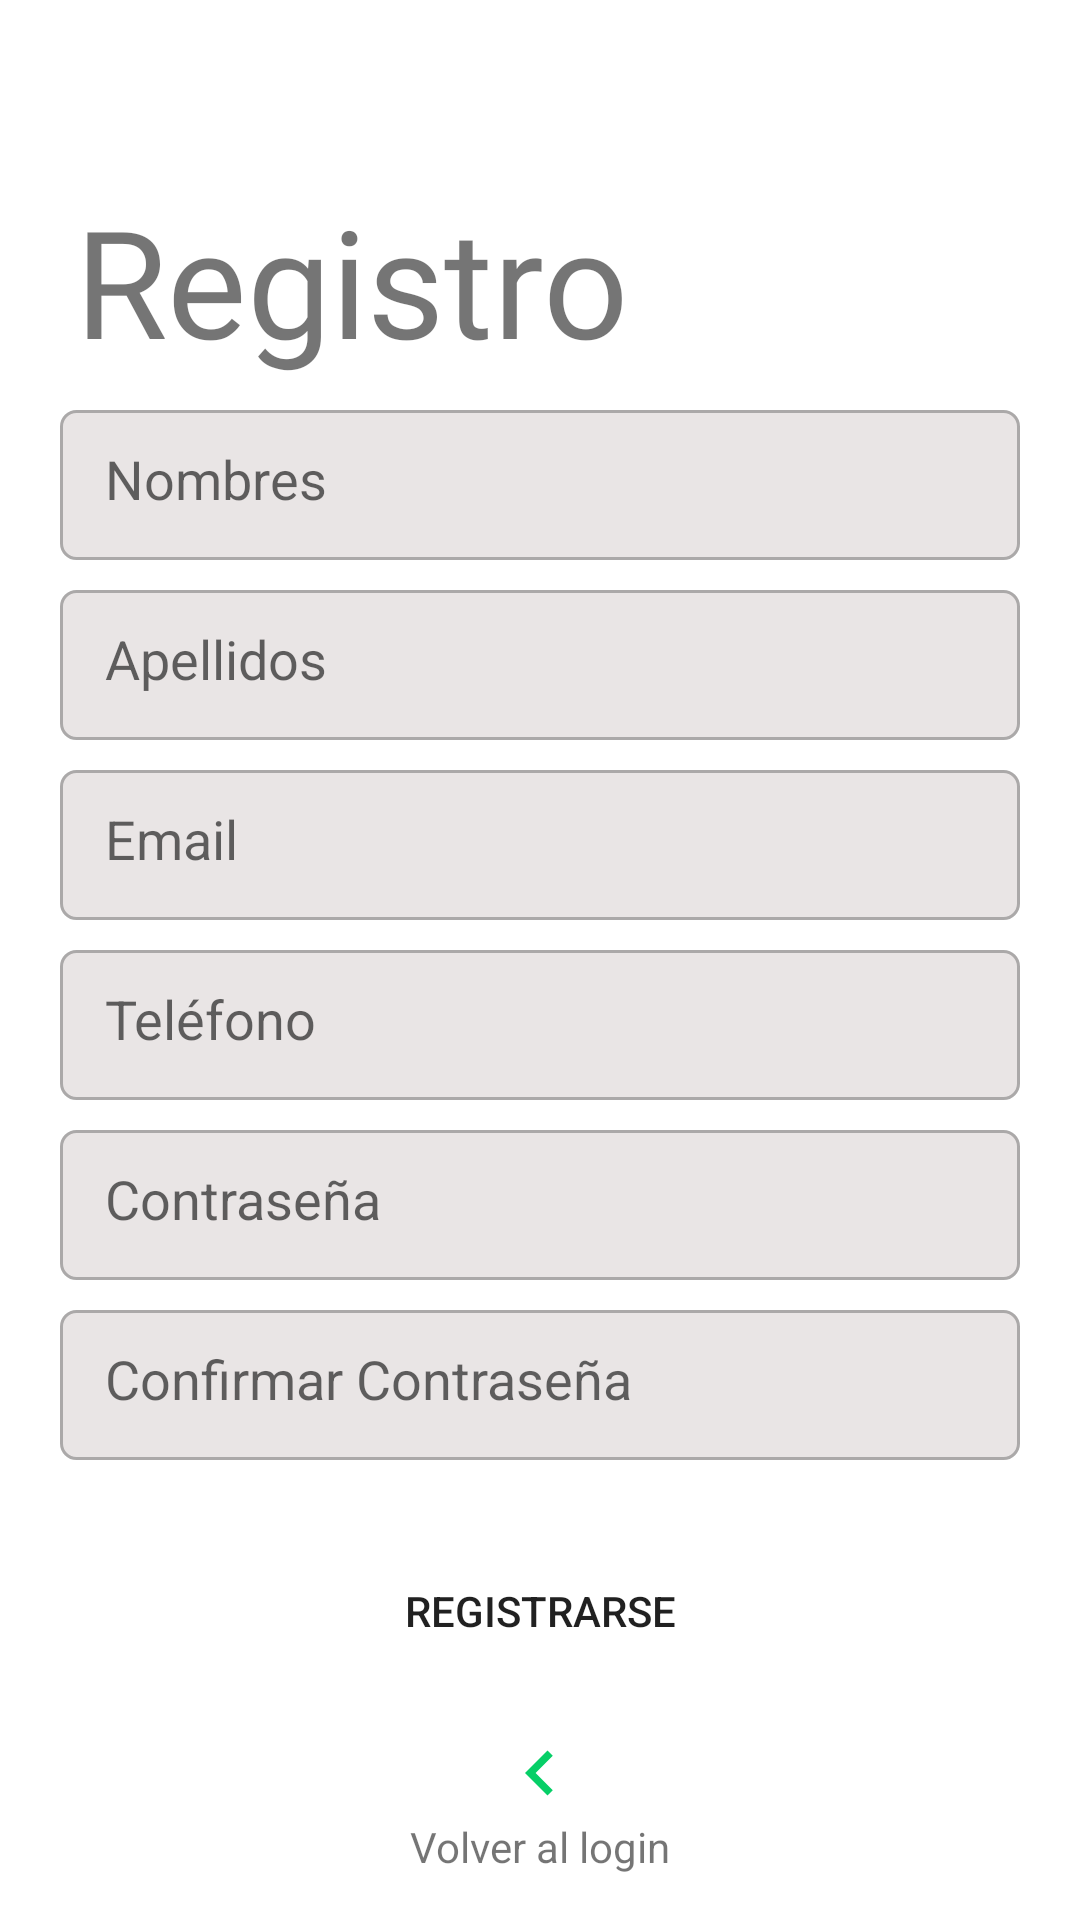

Screen size 1080px×1920px. Icon name, then its box in pixels as (x1, y1, x2, y2):
arrow left: (525, 1750, 553, 1796)
